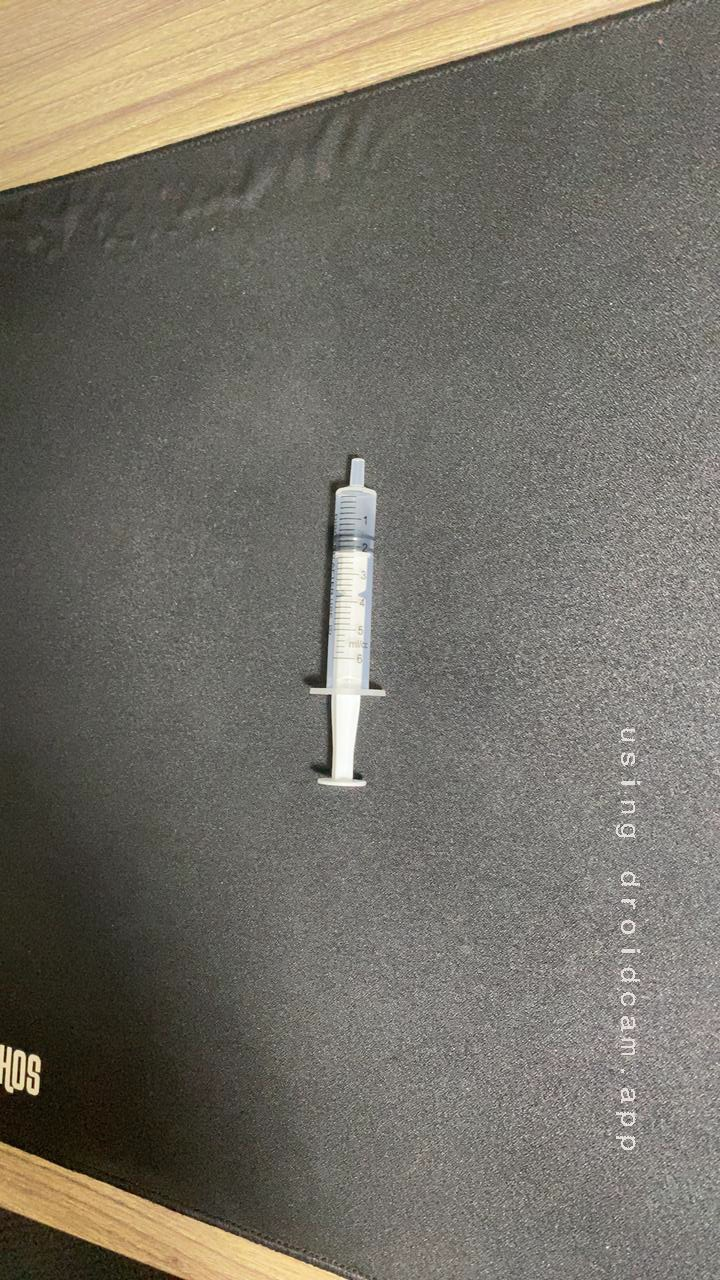syringe: (273, 440, 447, 817)
